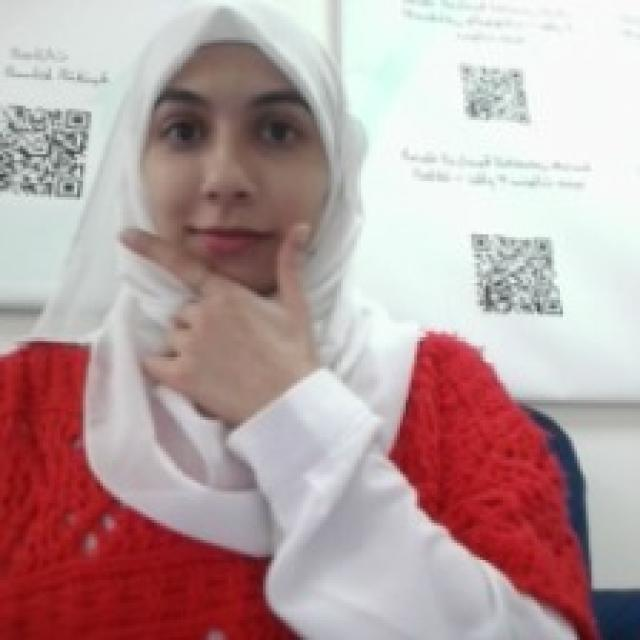smile: (106, 211, 320, 383)
